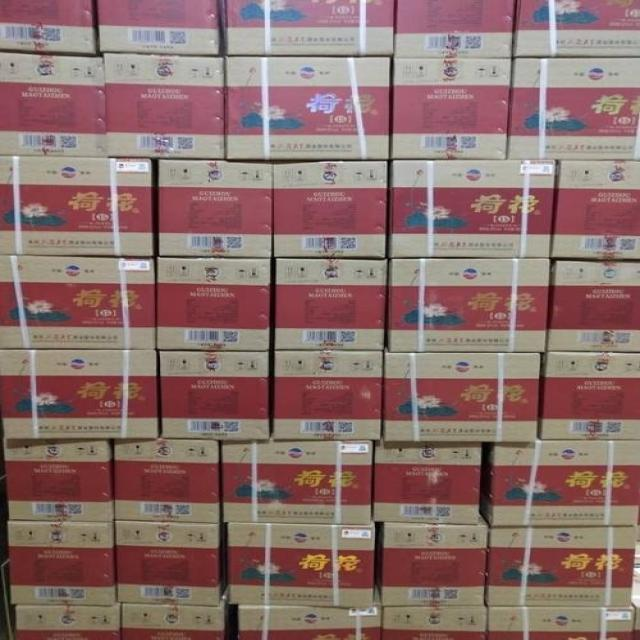box: (222, 56, 390, 160), (389, 161, 558, 259), (0, 154, 155, 257), (389, 258, 555, 352), (382, 353, 542, 445), (0, 256, 158, 349), (99, 53, 228, 159), (505, 58, 639, 160), (481, 441, 639, 525), (221, 440, 374, 523), (225, 523, 376, 606), (390, 57, 511, 160), (488, 527, 636, 609), (156, 159, 275, 257), (0, 51, 108, 157), (272, 161, 389, 258), (153, 258, 272, 352), (270, 258, 390, 351), (159, 349, 273, 441), (271, 351, 383, 441), (378, 516, 488, 606), (116, 520, 230, 606), (221, 1, 395, 56), (8, 519, 117, 605), (374, 441, 481, 525), (114, 440, 221, 523), (540, 351, 639, 440), (4, 440, 112, 521), (554, 161, 639, 261), (548, 259, 639, 351), (517, 1, 639, 59), (96, 1, 224, 56), (395, 1, 518, 58), (0, 1, 96, 56), (234, 605, 384, 639), (486, 605, 634, 639), (121, 605, 234, 639), (381, 605, 488, 639), (14, 605, 122, 637)
